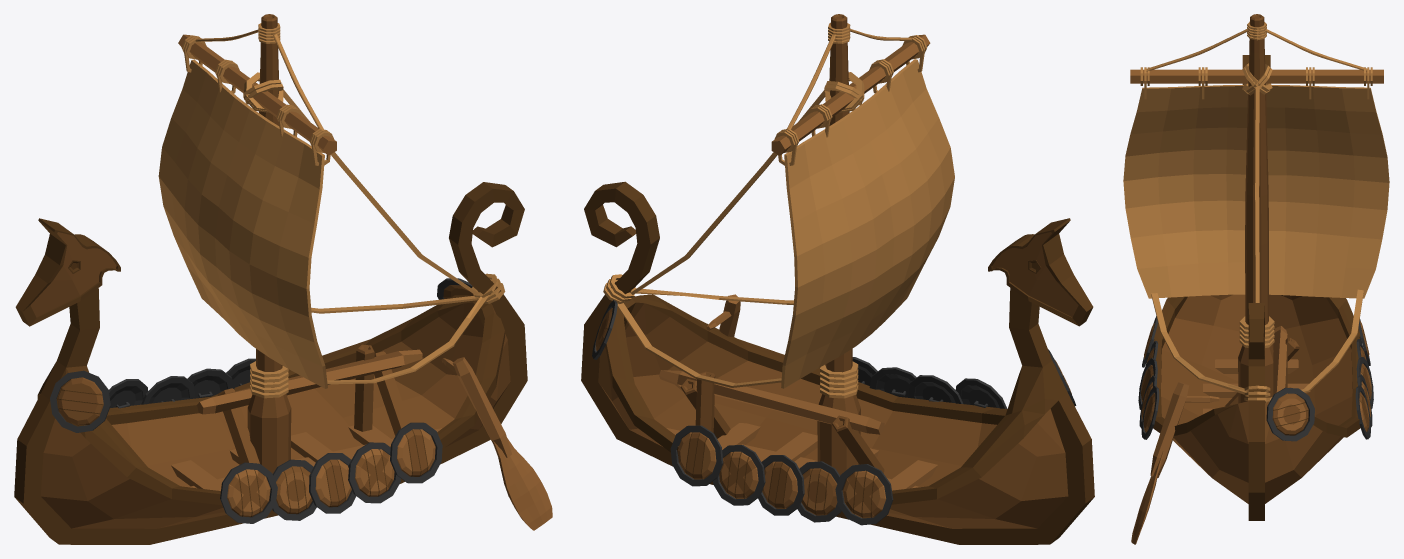
Rendered from D_Galley_Wood.fbx.
3 renders of one model, left to right at view 1: azimuth 30°, elevation 25°; view 2: azimuth 150°, elevation 25°; view 3: azimuth 270°, elevation 25°, orthographic. The views are drawn at different scales.
Visible parts, largest first — view 1: D_Galley_Wood, D_Galley_Sail_Yellow, D_Knarr_A_Oar.004; view 2: D_Galley_Wood, D_Galley_Sail_Yellow, D_Knarr_A_Oar.004; view 3: D_Galley_Wood, D_Galley_Sail_Yellow, D_Knarr_A_Oar.004.
Part boxes in pixels (left/top/right/bottom): D_Galley_Wood: left=14, top=14, right=527, bottom=544; D_Galley_Sail_Yellow: left=158, top=59, right=327, bottom=388; D_Knarr_A_Oar.004: left=441, top=357, right=552, bottom=530; D_Galley_Wood: left=581, top=14, right=1094, bottom=544; D_Galley_Sail_Yellow: left=781, top=59, right=954, bottom=388; D_Knarr_A_Oar.004: left=706, top=294, right=740, bottom=336; D_Galley_Wood: left=1130, top=14, right=1383, bottom=520; D_Galley_Sail_Yellow: left=1123, top=85, right=1389, bottom=298; D_Knarr_A_Oar.004: left=1131, top=382, right=1219, bottom=544.
Bounding box in the file's own units: 1047 × 1009 × 549.
